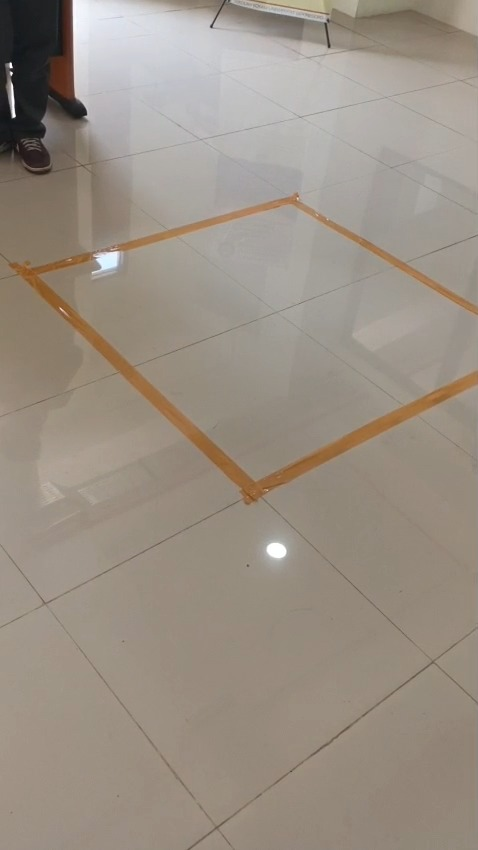floor marking: (12, 194, 477, 503)
